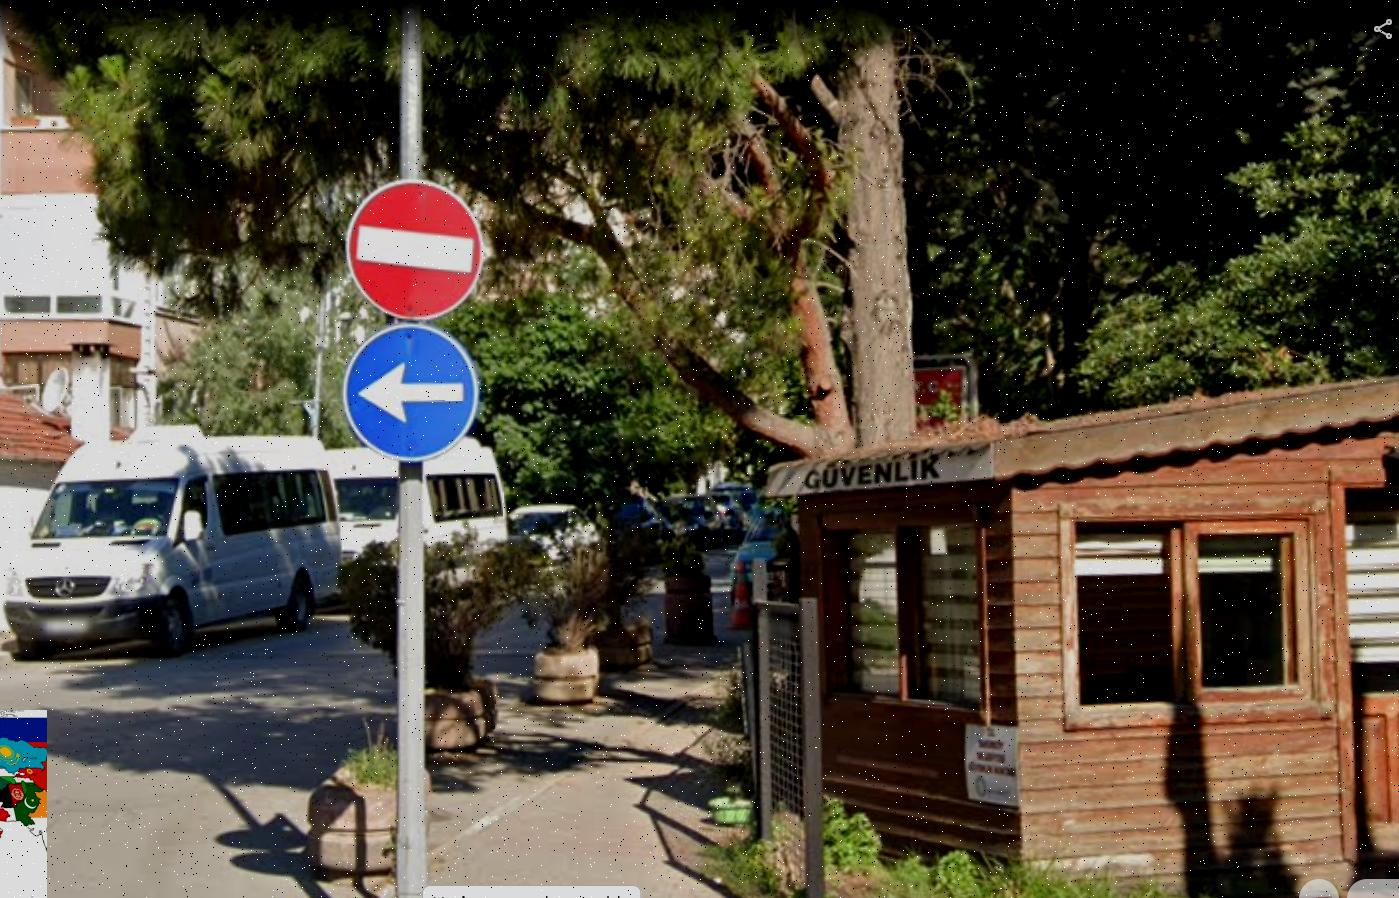turnleft: (344, 326, 474, 447)
